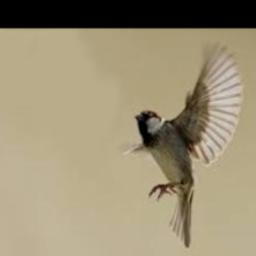Sparrow: (124, 39, 242, 247)
